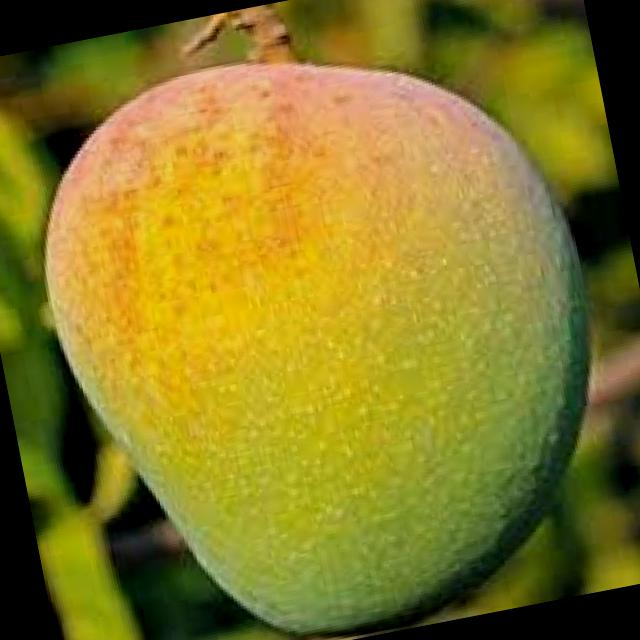Mango: (17, 5, 640, 640)
